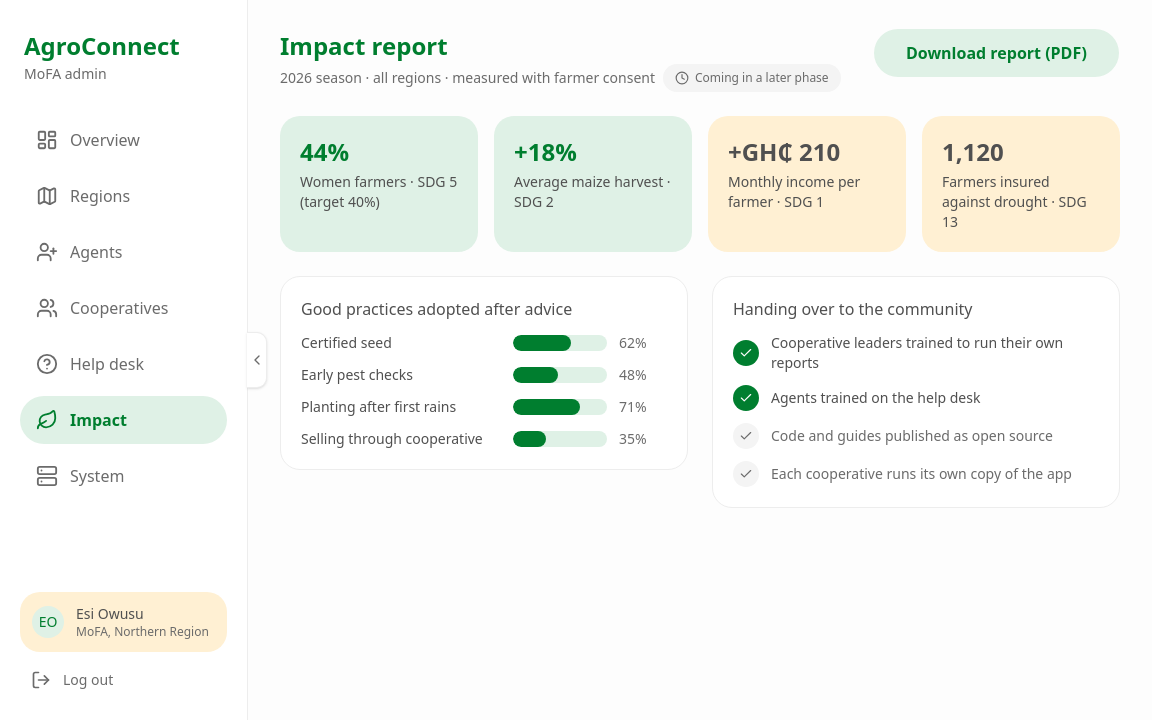
Test: admin pages on sample data › Impact shows practices and the handover checklist
Expected: the text "Each cooperative runs its own copy of the app" is shown, [771,464,1072,484]
Note: not built yet: says so instead of doing nothing
Click the button "Download report (PDF)" at (996, 53), box [873,28,1120,78]
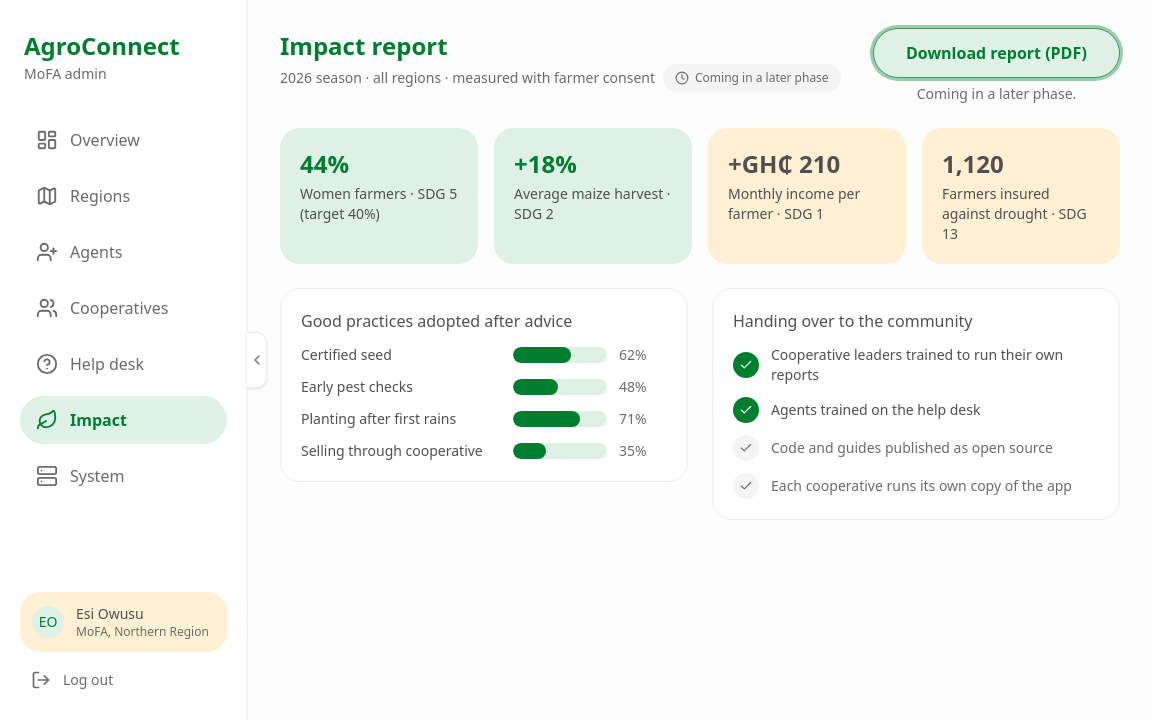
Result: the message reads "Coming in a later phase." at [917,84,1076,103]
